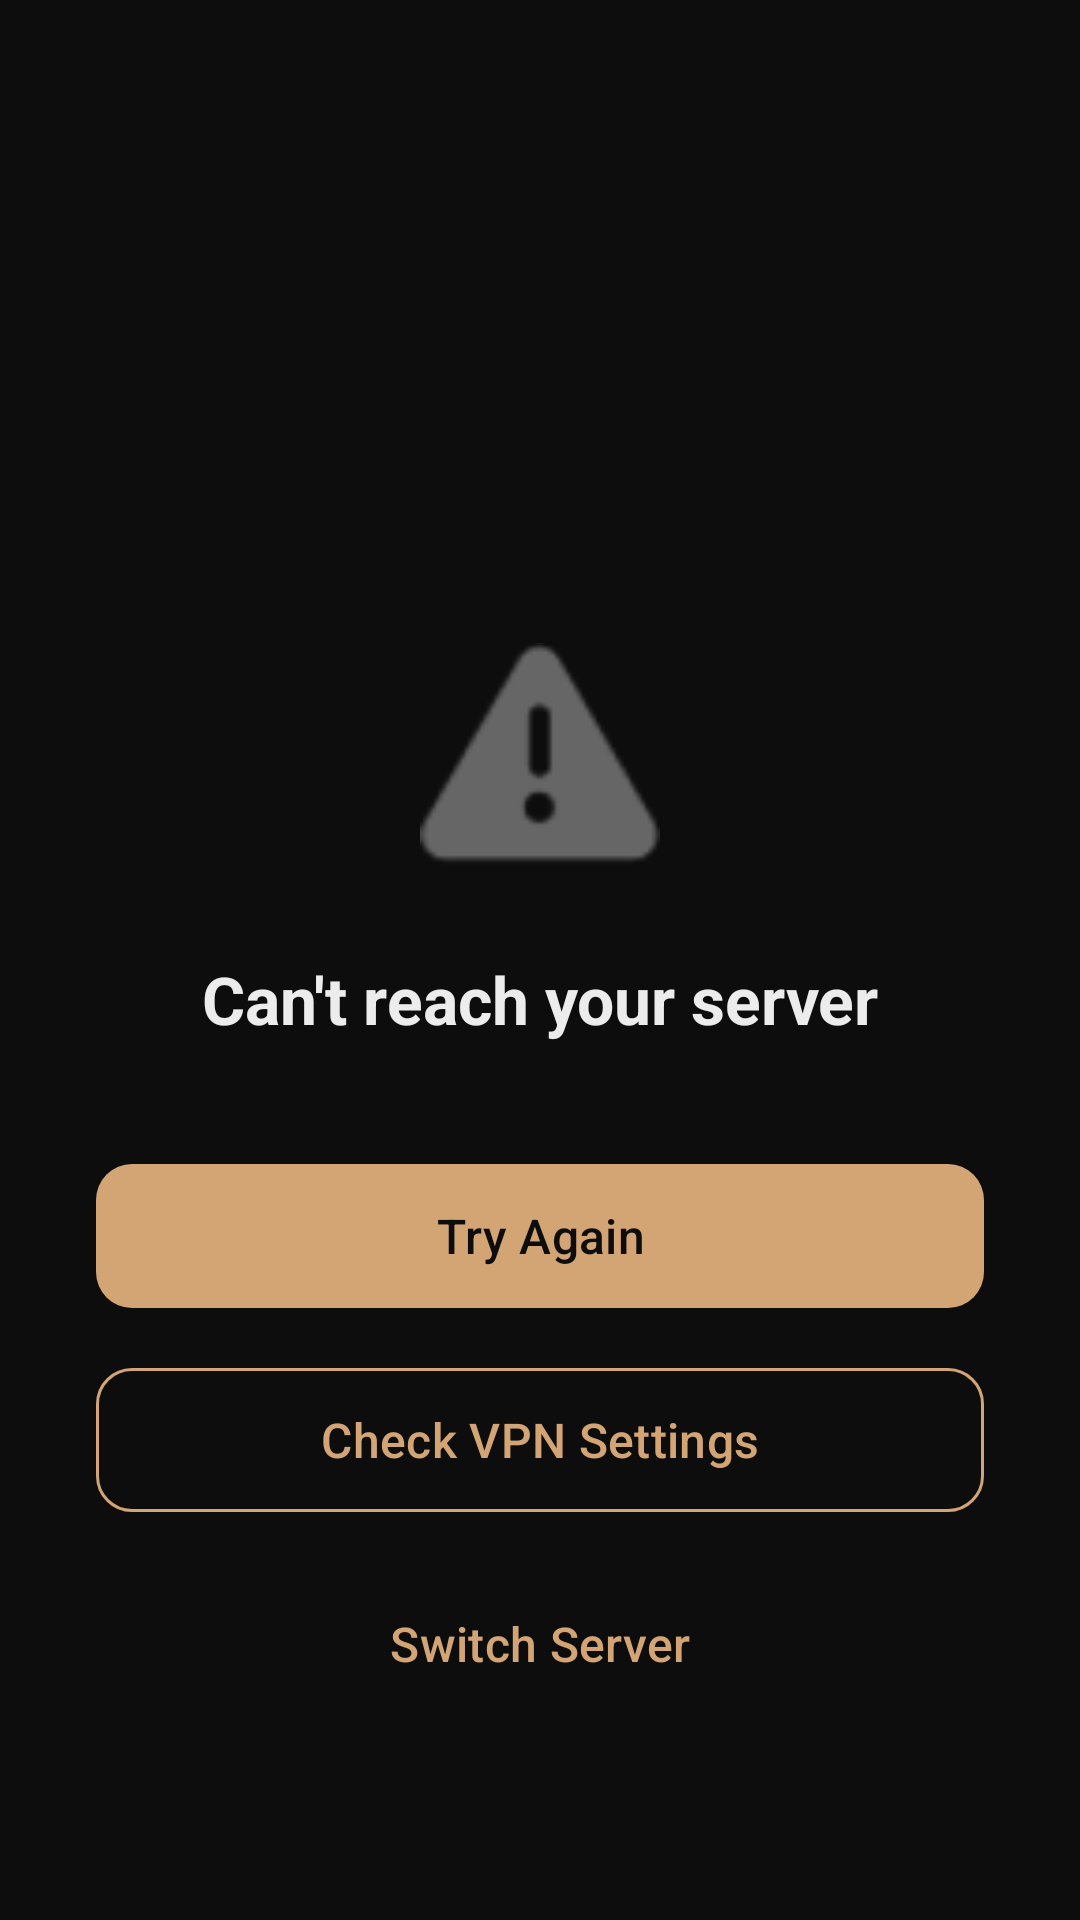

Where to tap for icons on this 1080 × 1920 app screen, as point (x, y):
Error: point (540, 753)
